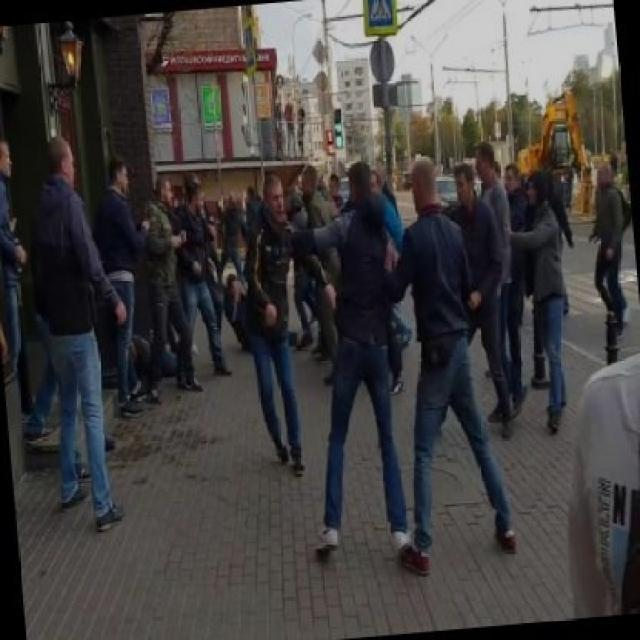fight: (248, 165, 408, 580)
non-fight: (0, 119, 151, 538), (490, 151, 596, 440)
